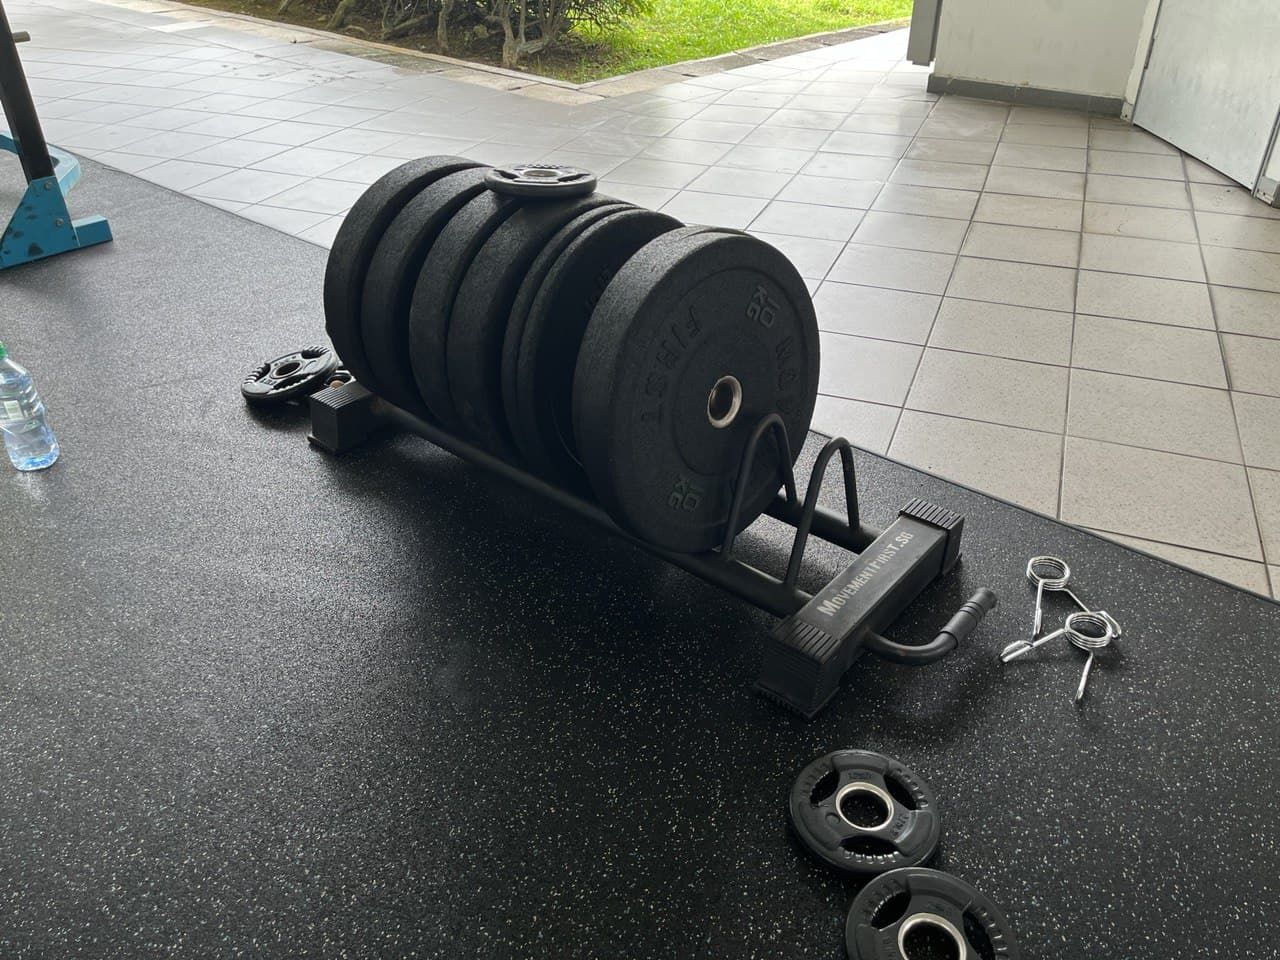weights: (319, 147, 826, 561), (570, 213, 823, 557), (787, 737, 947, 877), (841, 865, 1025, 960), (235, 343, 343, 416), (486, 159, 604, 202)
